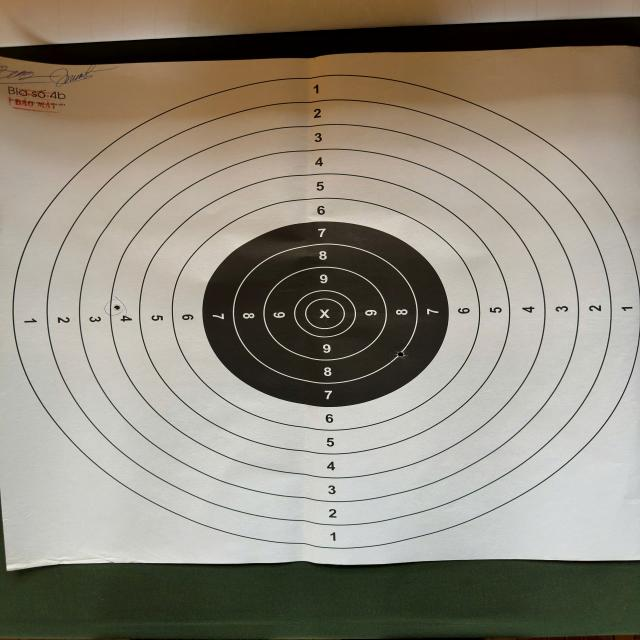bullet: (396, 352, 404, 360), (116, 304, 120, 312)
target: (0, 48, 632, 571)
